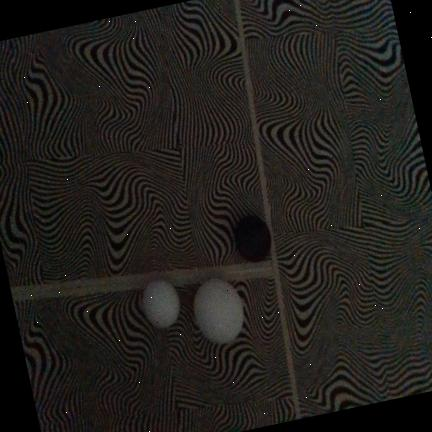Esfera: (194, 279, 244, 344), (143, 280, 180, 328), (235, 215, 271, 262)
